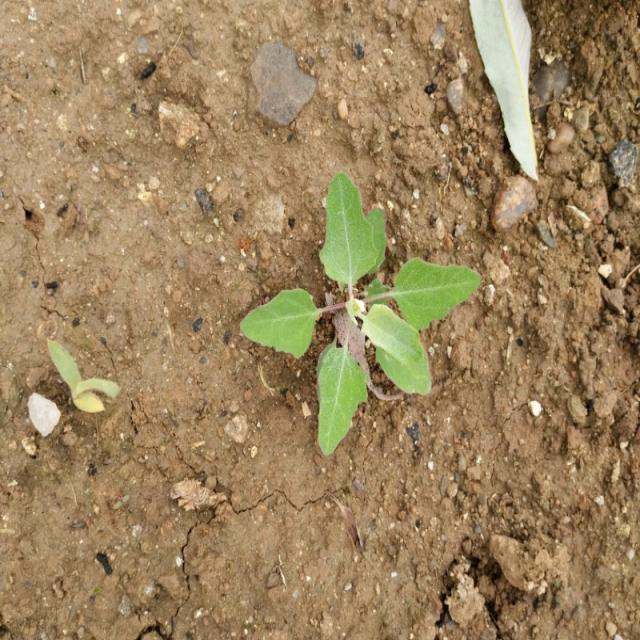ca: (242, 171, 480, 459)
